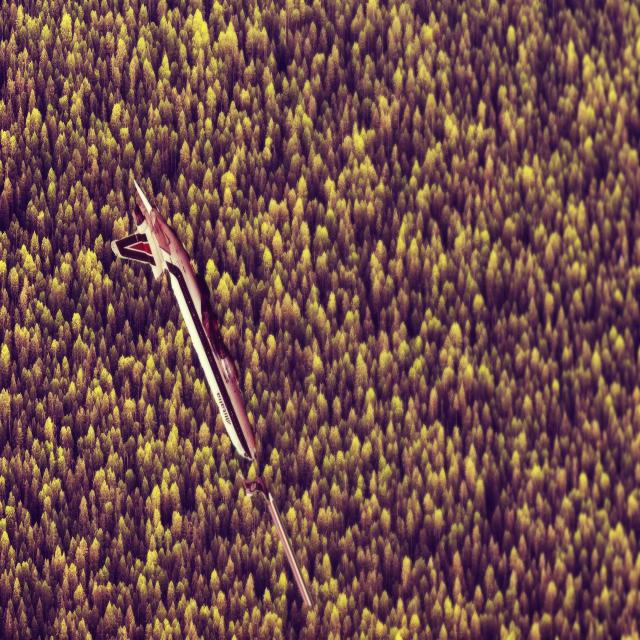airplane: (110, 176, 313, 608)
